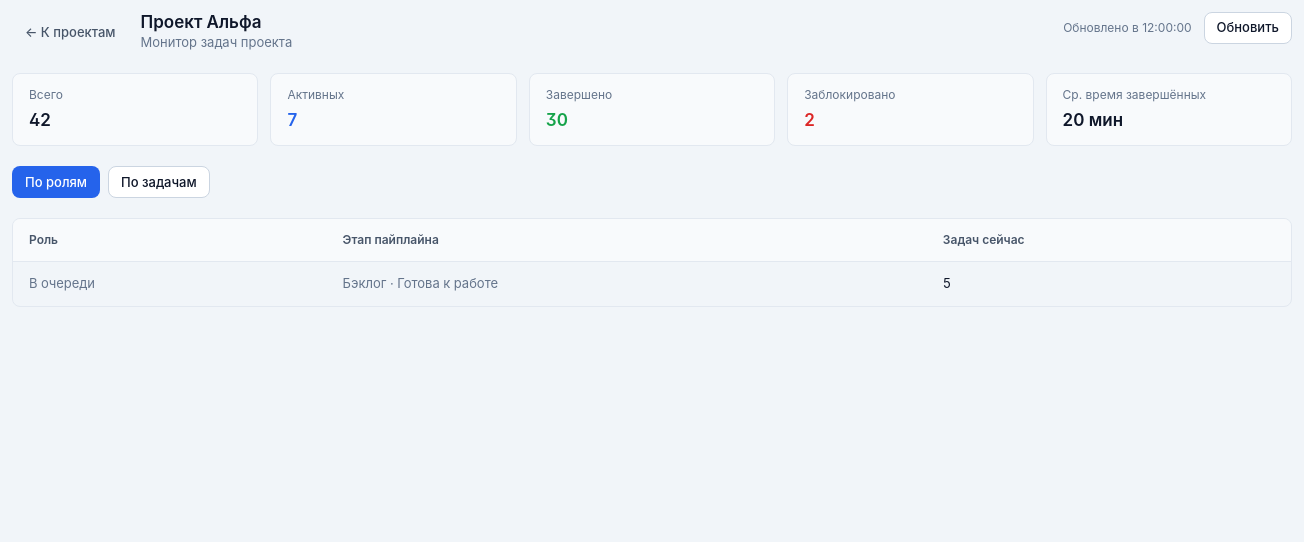
Scenario: ProjectMonitor — фильтры и сортировка › фильтр по этапу с отсутствующими совпадениями показывает «Нет задач под выбранные фильтры»
The width and height of the screenshot is (1304, 542).
Click the tab "По задачам".
click(159, 182)  # box [108, 166, 210, 198]
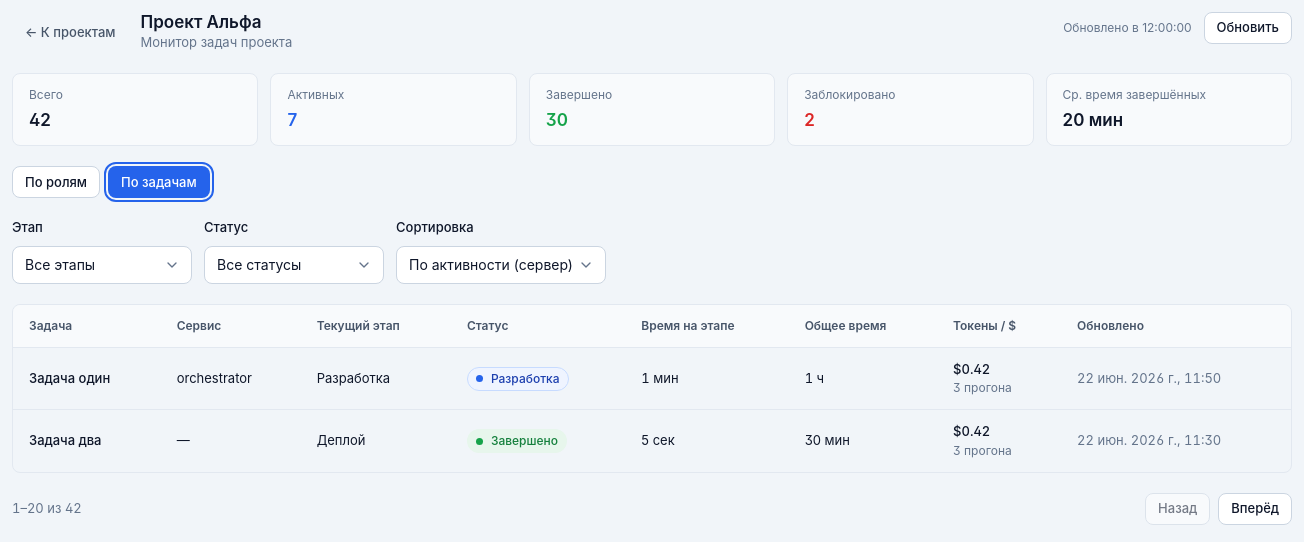
Select "Разработка" in the dropdown labelled "Этап" at point(102, 265), box [12, 246, 192, 284]
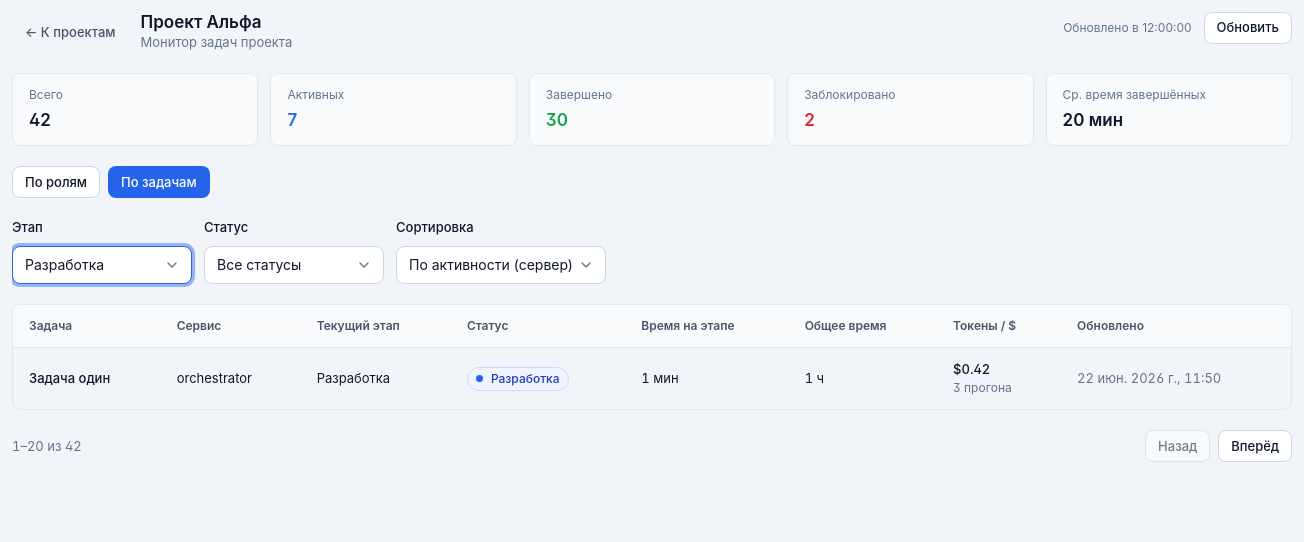
Result: the text "Задача один" is shown at [29, 369, 110, 388]
Result: the text "Задача два" is gone
